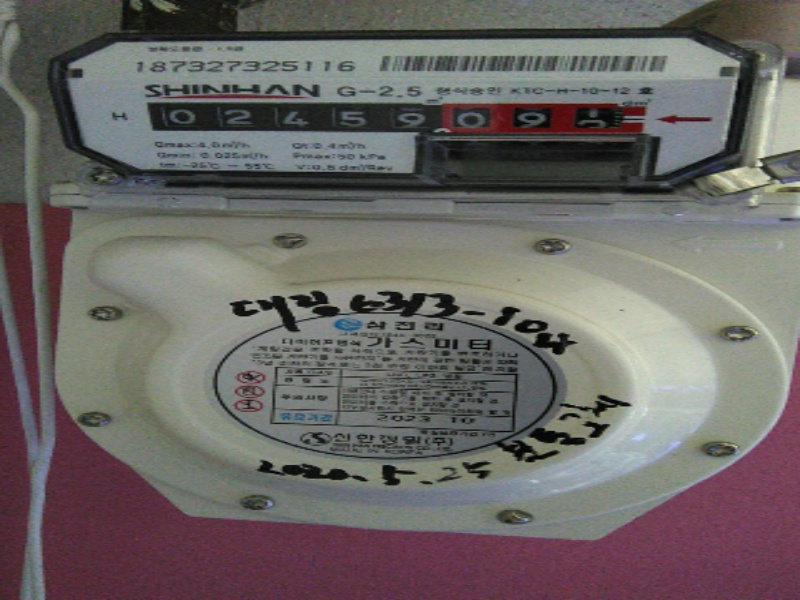meter: (45, 21, 764, 187)
